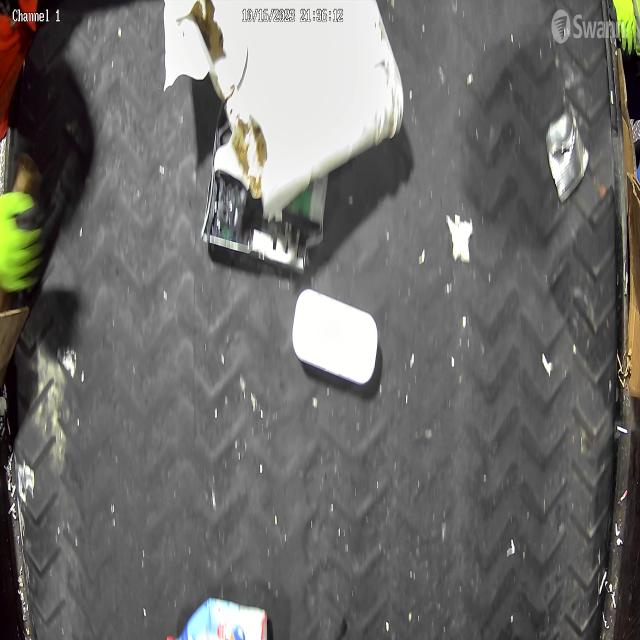can: (544, 105, 589, 204)
